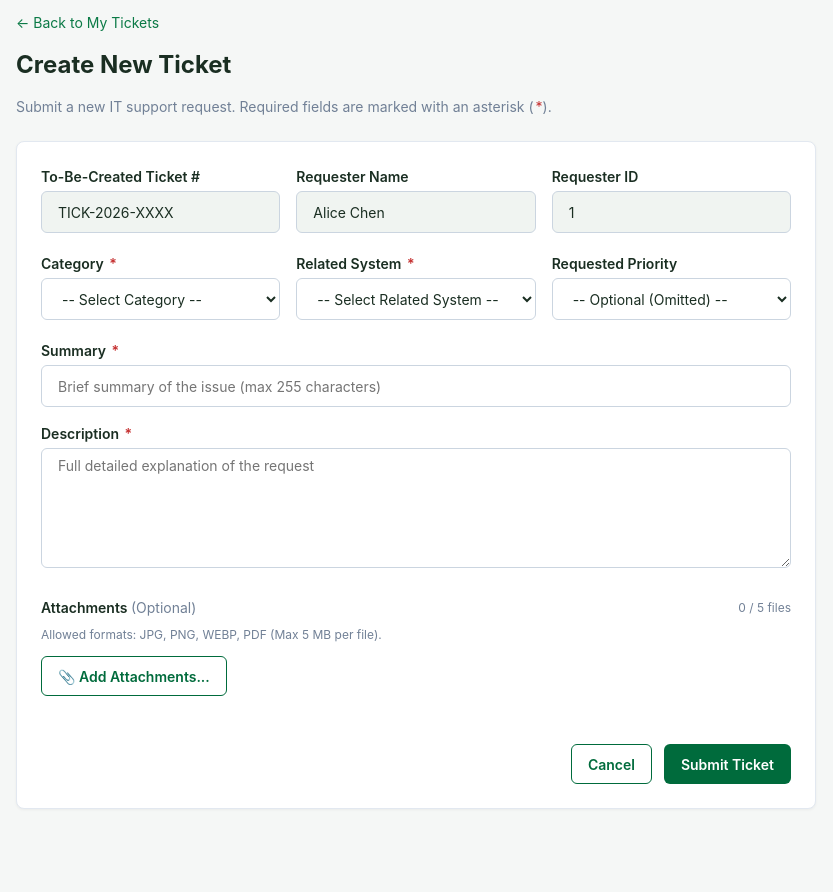
Lab 02 Feature 7 — Create Ticket Screen › shows client-side field validation errors when submitting blank form
The image size is (833, 892).
Click the button "Submit Ticket".
click(727, 764)  # box [664, 744, 791, 784]
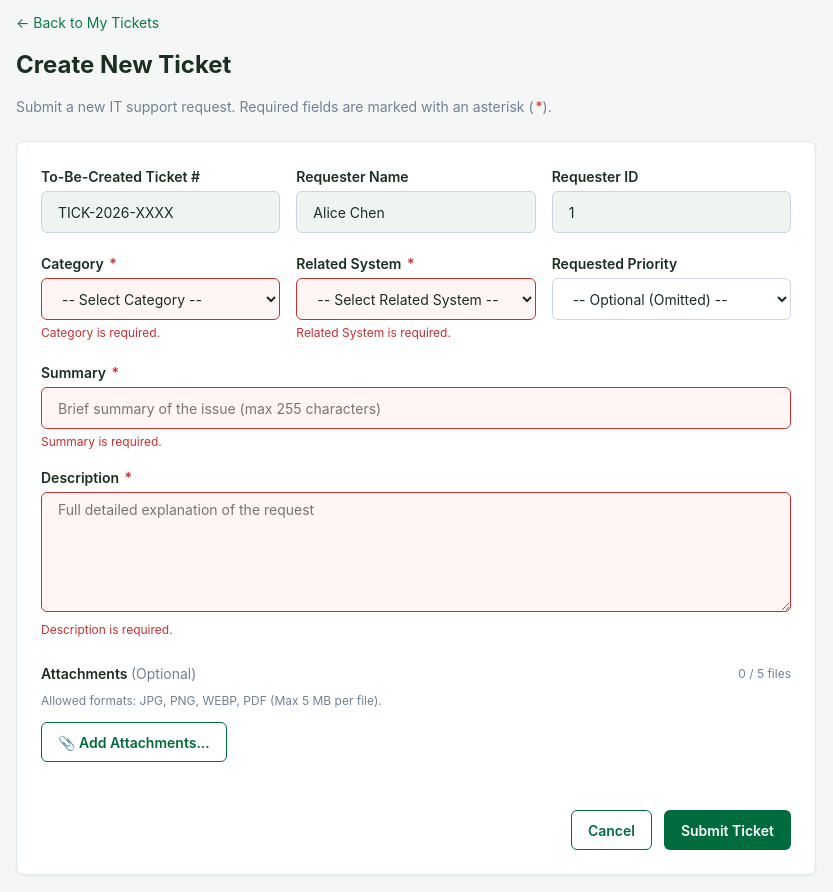
Result: the text "Category is required." is shown at [41, 325, 160, 340]
Result: the text "Related System is required." is shown at [296, 325, 451, 340]
Result: the text "Summary is required." is shown at [41, 434, 162, 449]
